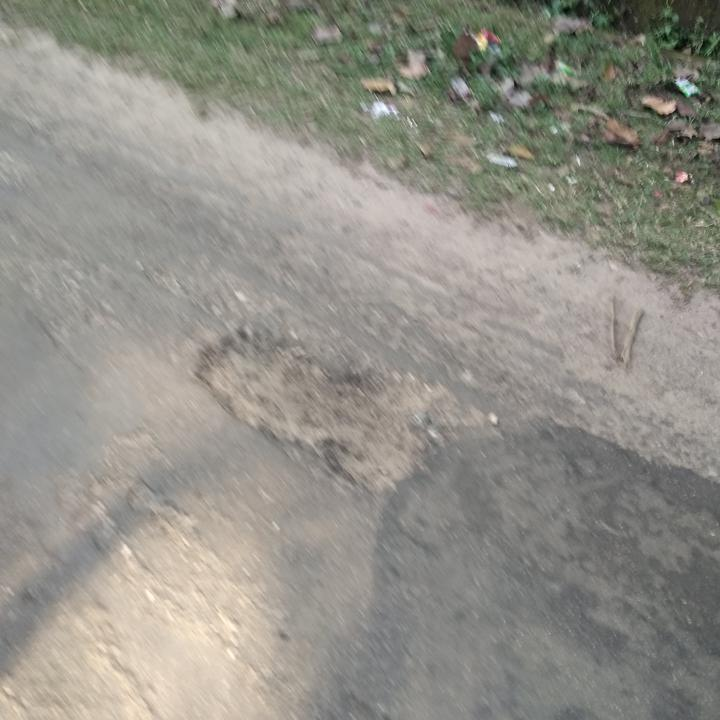pothole: (190, 325, 437, 491)
